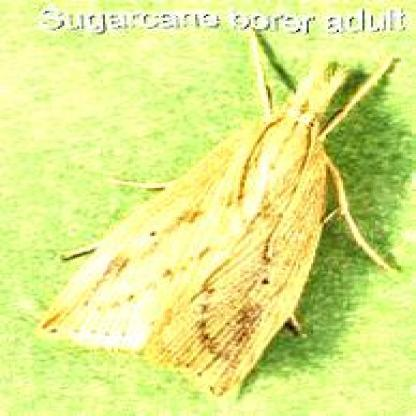stem-borer: (22, 41, 411, 408)
